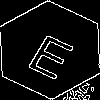E: (25, 25, 82, 81)
